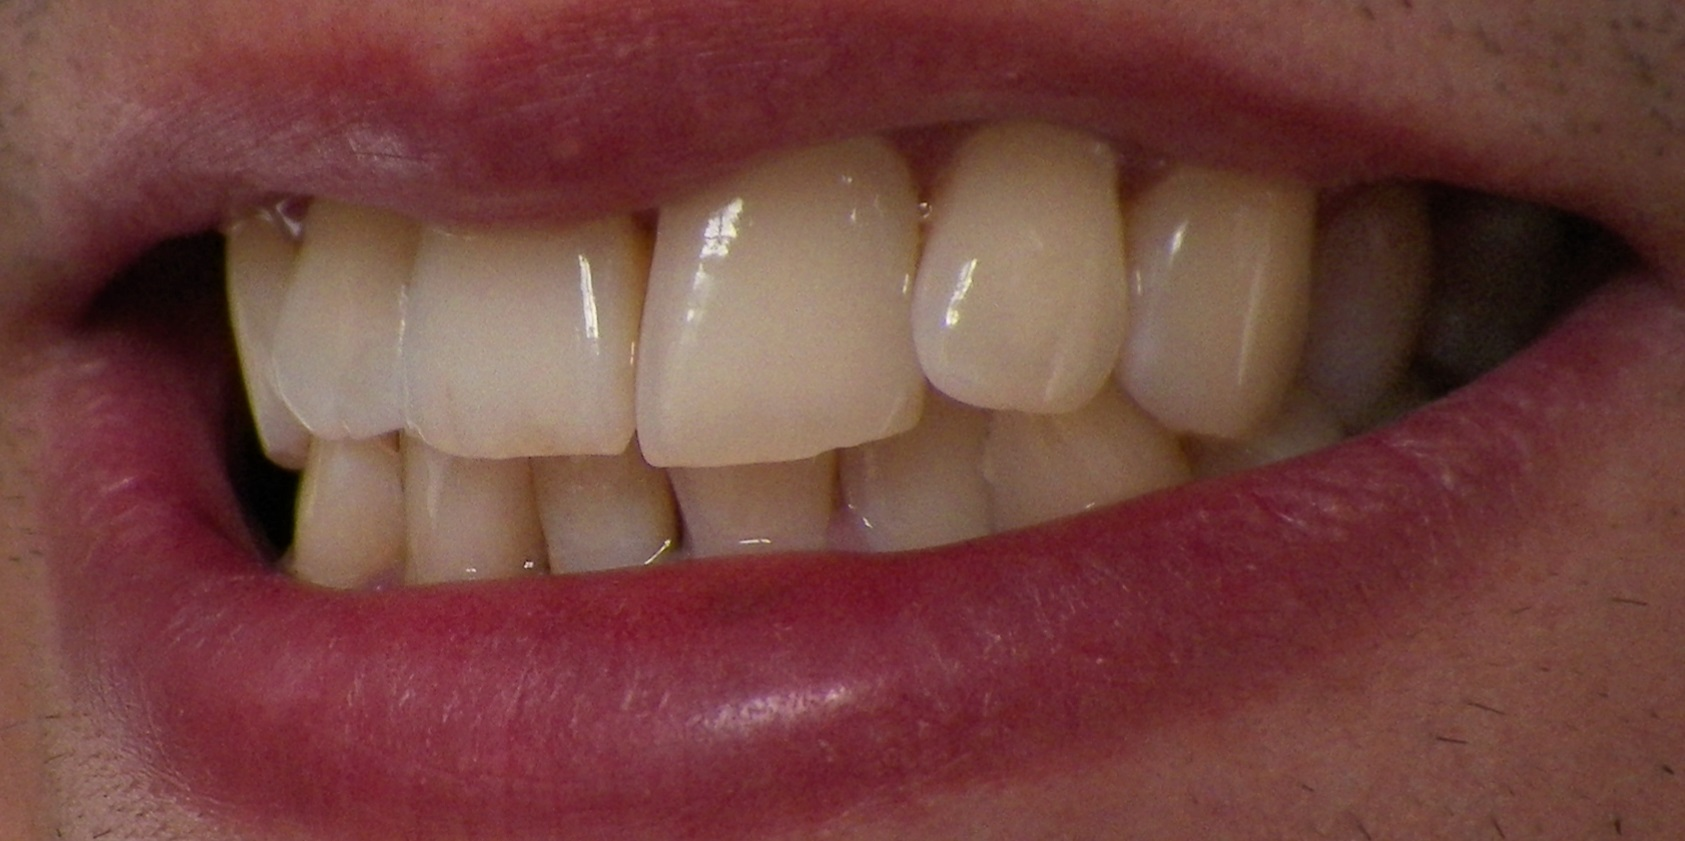boca: (216, 154, 1579, 583)
